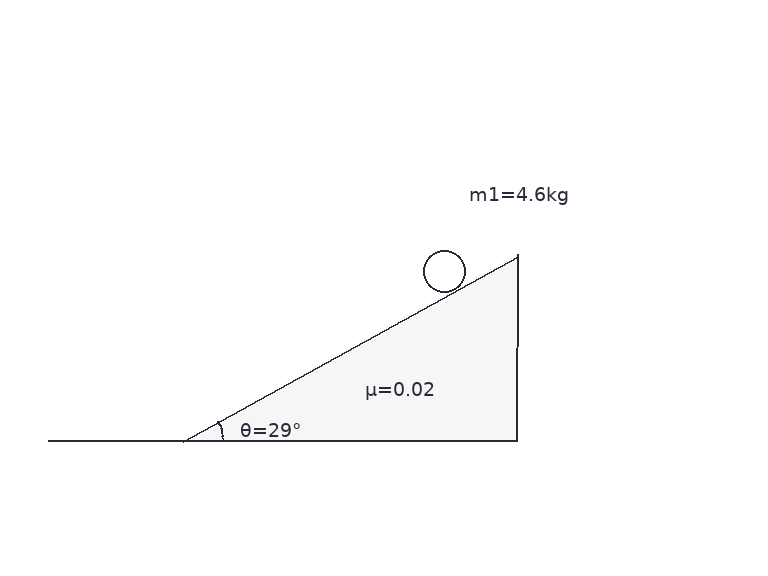ball: (421, 248, 467, 294)
ramp: (181, 253, 519, 442)
